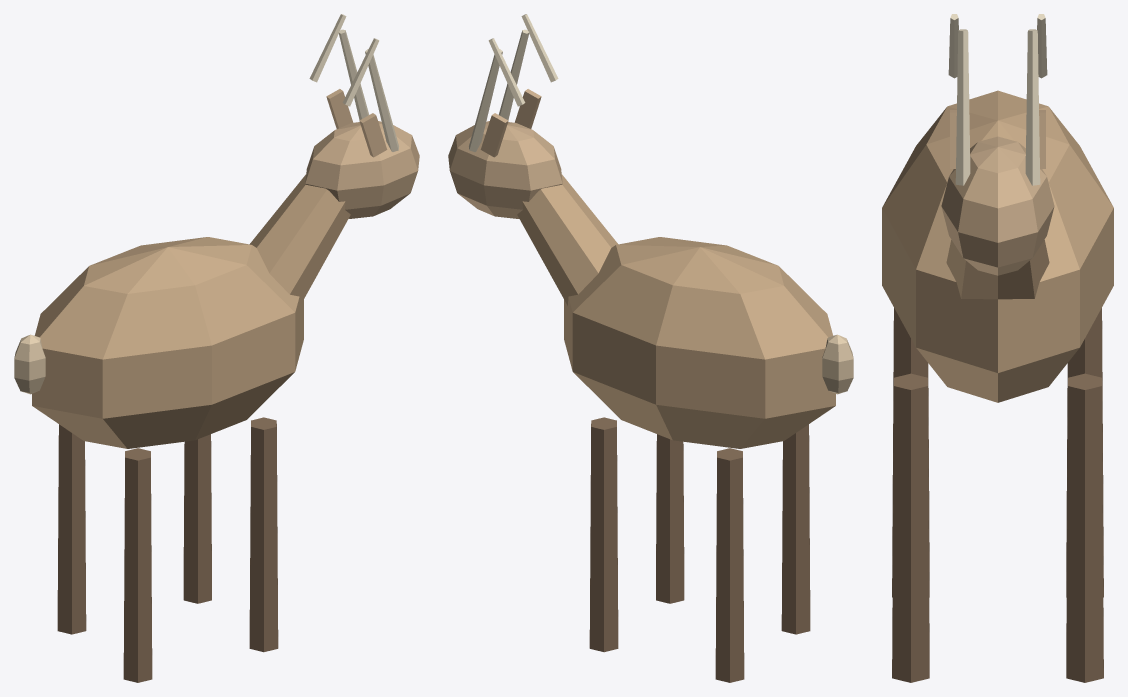
File: deer.glb
The picture shows the model from 3 angles, left to right: view 1: azimuth 30°, elevation 25°; view 2: azimuth 150°, elevation 25°; view 3: azimuth 270°, elevation 25°; orthographic projection. The views are drawn at different scales.
Parts seen in each view (by area): view 1: deer-body, deer-legs, deer-head, deer-neck, deer-antlers, deer-tail; view 2: deer-body, deer-legs, deer-head, deer-neck, deer-antlers, deer-tail; view 3: deer-body, deer-legs, deer-head, deer-antlers, deer-neck.
Boxes of the visible parts, x1,y1,x2,y2 form: deer-body: (32,237,303,448); deer-legs: (57,417,278,682); deer-head: (305,89,419,218); deer-neck: (250,174,350,305); deer-antlers: (309,14,398,151); deer-tail: (14,334,45,394); deer-body: (564,237,835,448); deer-legs: (589,417,810,682); deer-head: (448,89,562,218); deer-neck: (517,174,617,305); deer-antlers: (469,14,558,151); deer-tail: (822,334,853,394); deer-body: (882,90,1113,402); deer-legs: (892,308,1103,682); deer-head: (941,110,1054,275); deer-antlers: (948,14,1047,185); deer-neck: (946,240,1049,299).
Size of the model in its own units: 1.42 by 1.88 by 0.5326.
